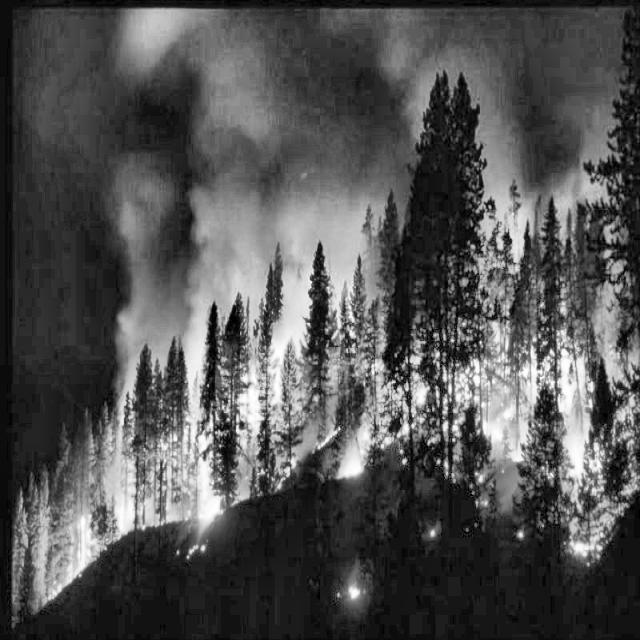fire: (20, 155, 639, 636)
